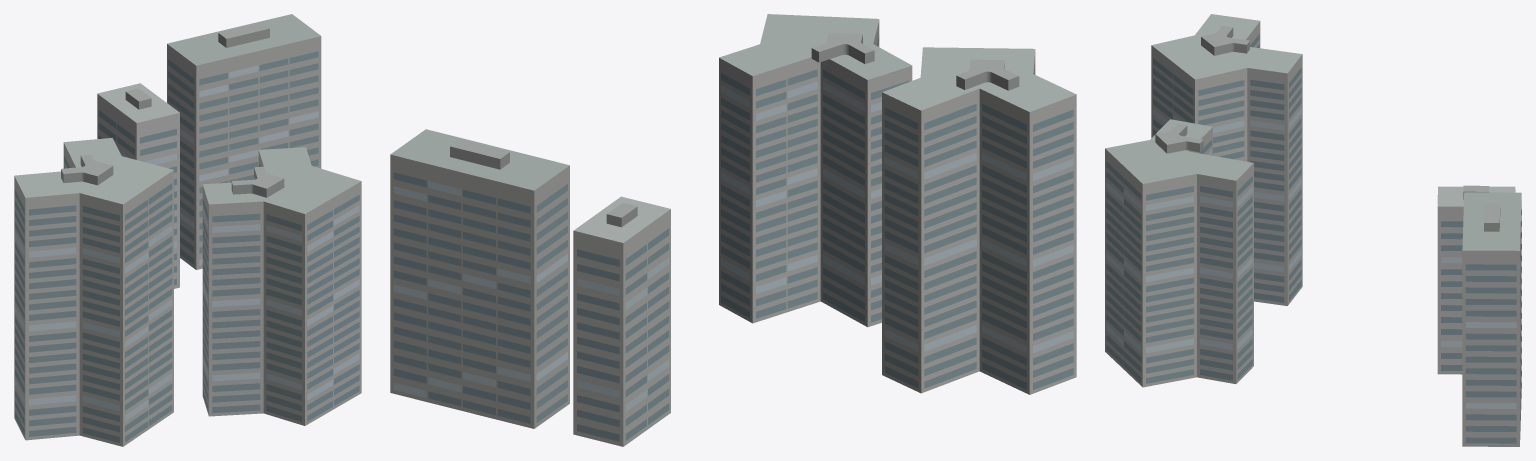
The model's file is apt-a15005002.glb.
3 renders of one model, left to right at view 1: azimuth 30°, elevation 25°; view 2: azimuth 150°, elevation 25°; view 3: azimuth 270°, elevation 25°, orthographic. The views are drawn at different scales.
Visible parts, largest first — view 1: apt-a15005002; view 2: apt-a15005002; view 3: apt-a15005002.
Part boxes in pixels (x1,y1,x2,y2): apt-a15005002: (14, 14, 361, 446); apt-a15005002: (390, 14, 1076, 446); apt-a15005002: (1105, 14, 1521, 446).
Bounding box in the file's own units: 117 × 66 × 103.
